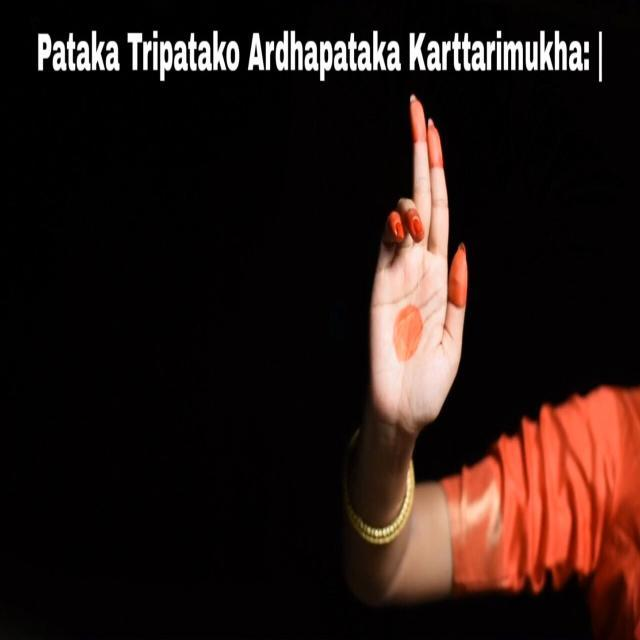ardhpataka: (369, 89, 476, 442)
